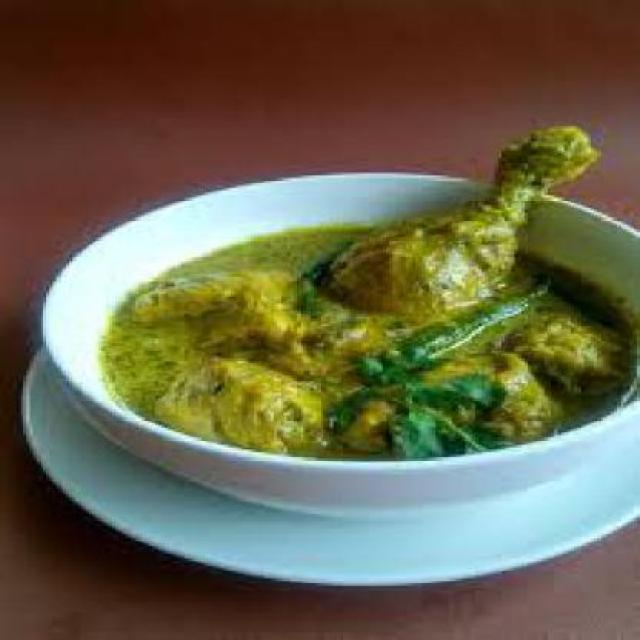CHICKEN CURRY: (102, 125, 636, 462)
